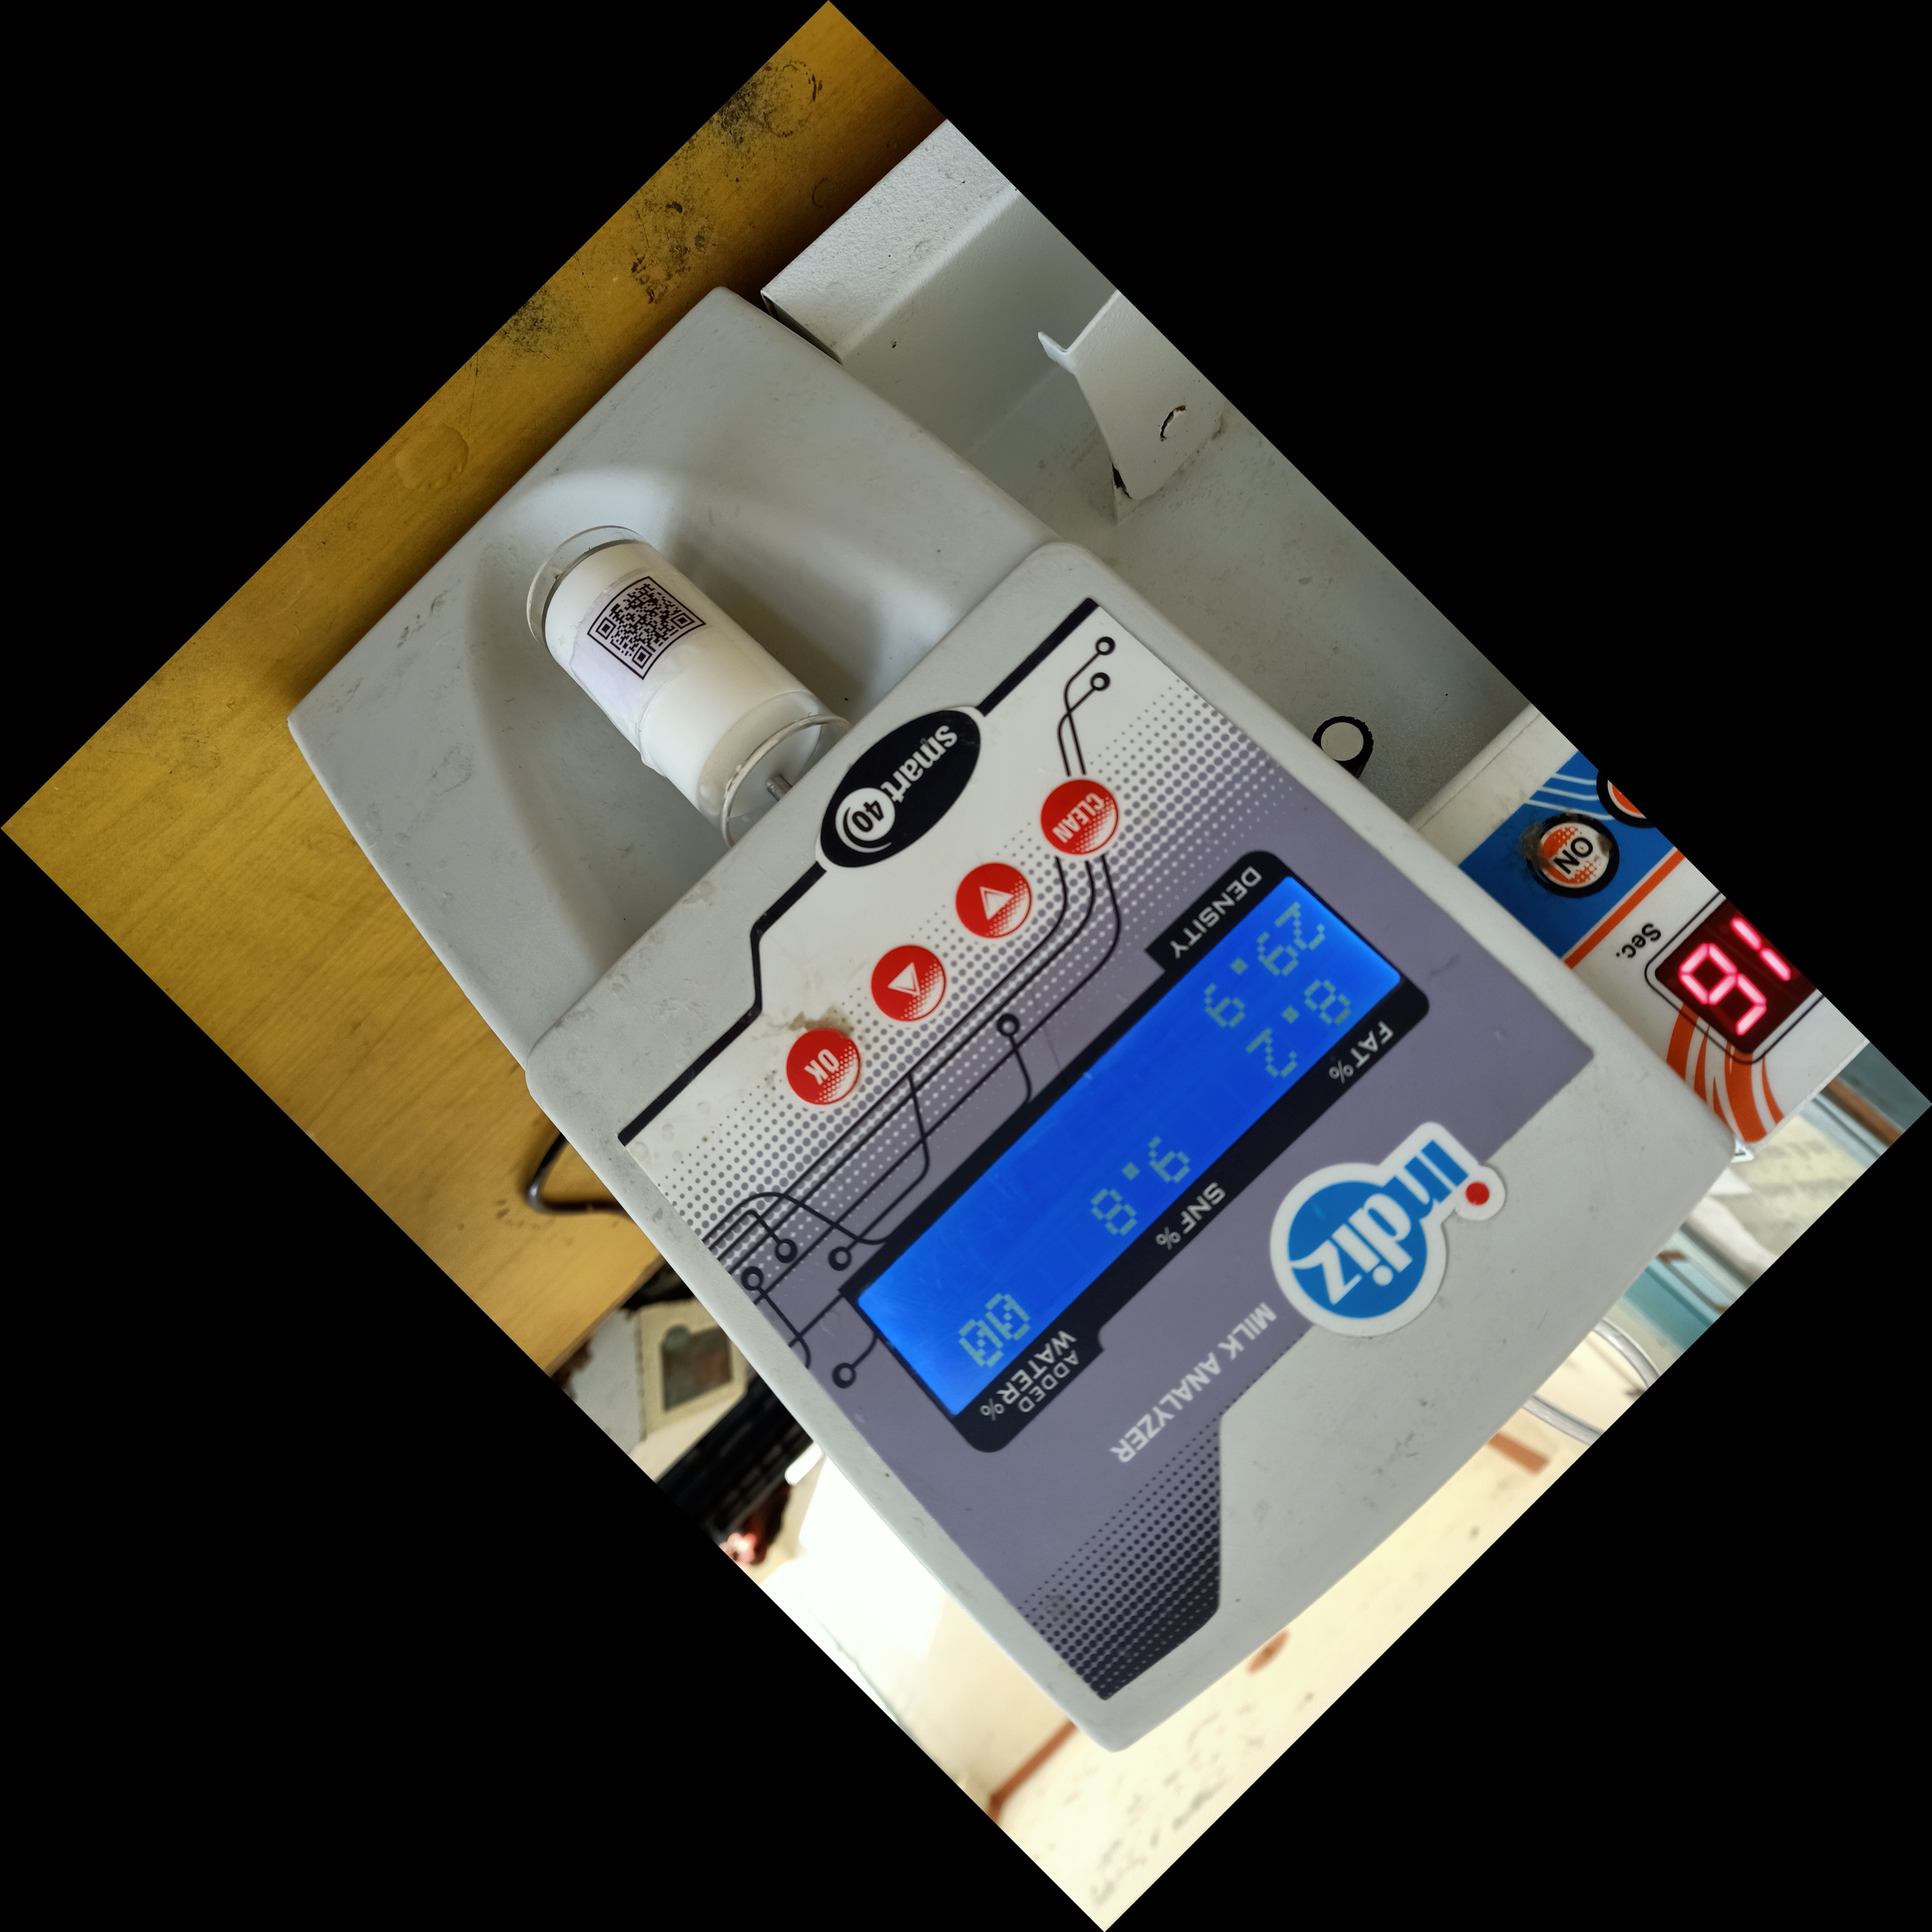lcd: (832, 821, 1426, 1486)
qr: (568, 557, 715, 702)
